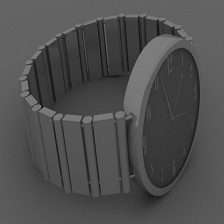Watch: (33, 6, 207, 212)
